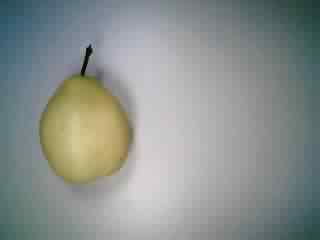pear: (32, 36, 141, 193)
